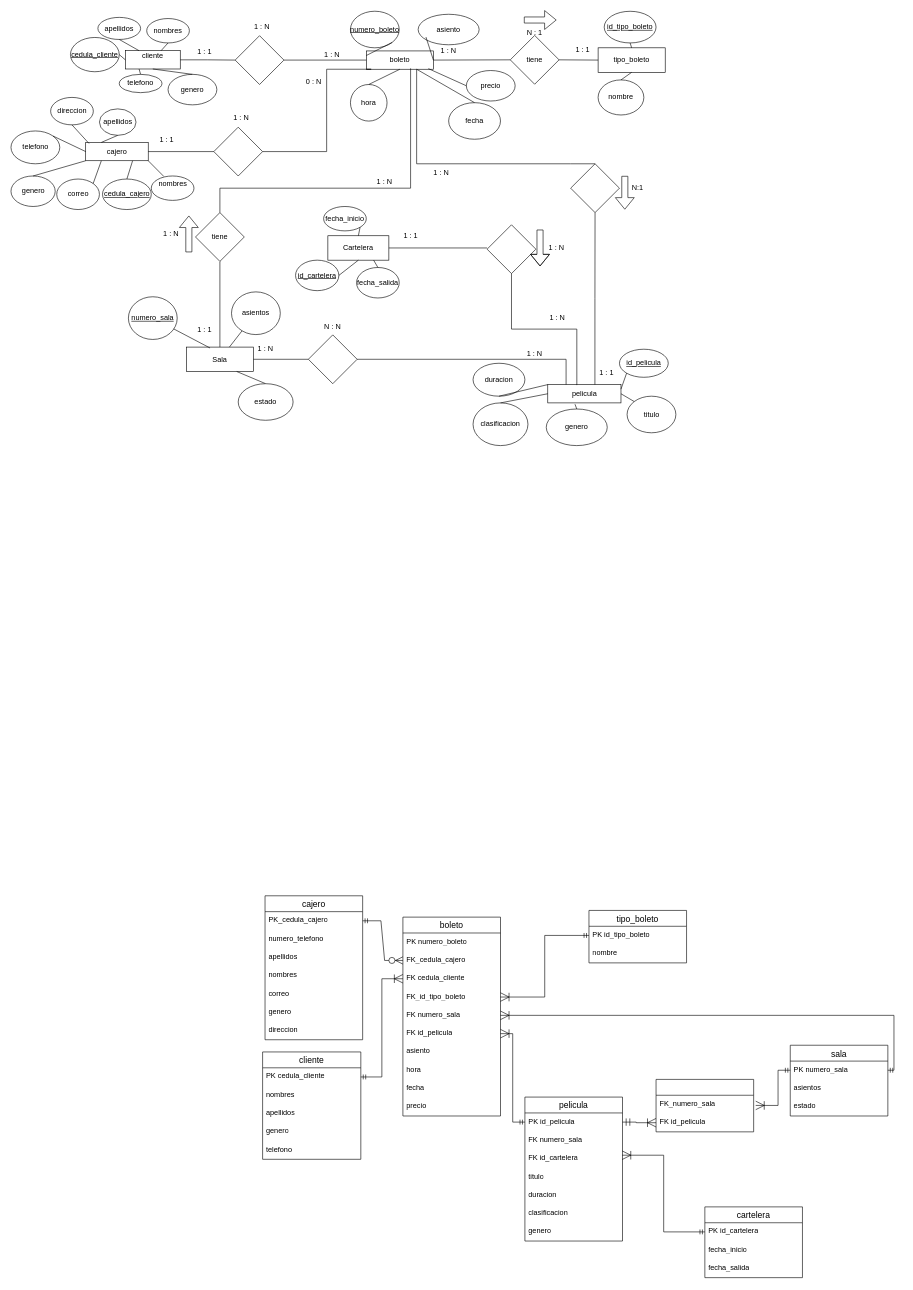
Some shapes in this 913 by 1290 pixel diagram are drawn without their labels. The shapes that lost their labels are listed below. From the top down, each one's box as (x1, y1, x2, y2) in pixels, then its label:
(235, 35, 284, 84): compra
(213, 127, 263, 176): vende
(570, 163, 619, 213): asigna
(486, 224, 536, 274): almacena
(308, 334, 357, 384): proyecta
(655, 1079, 754, 1132): proyectar_pelicula
